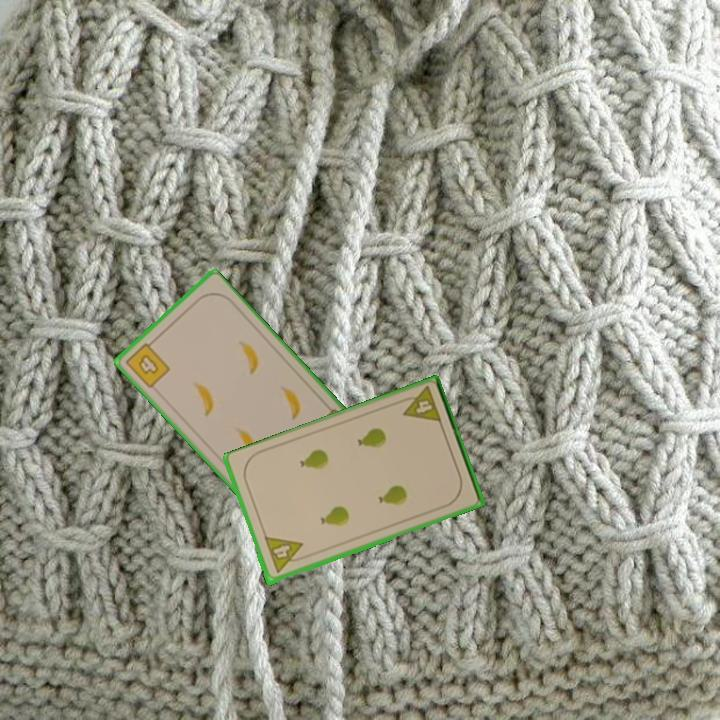4b: (121, 336, 173, 391)
4p: (395, 383, 444, 426), (261, 534, 309, 577)
